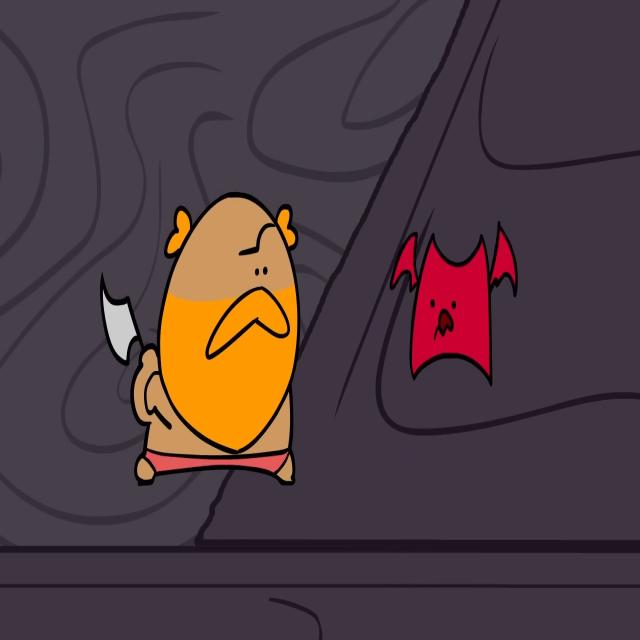Haagen-Daz: (130, 192, 301, 488)
